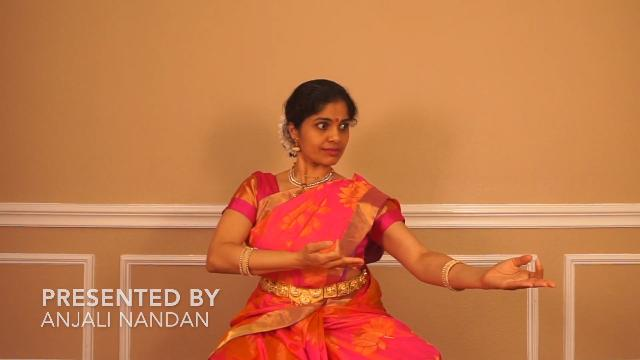aral: (482, 242, 560, 300)
